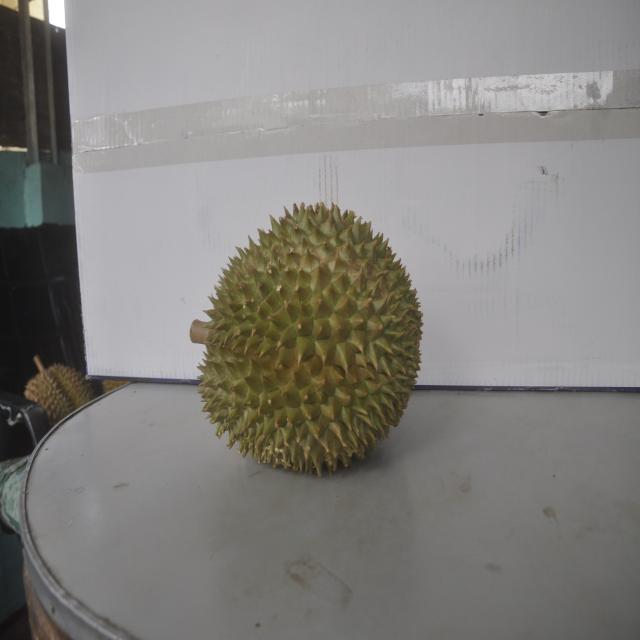mature: (197, 200, 424, 478), (23, 360, 98, 428)
